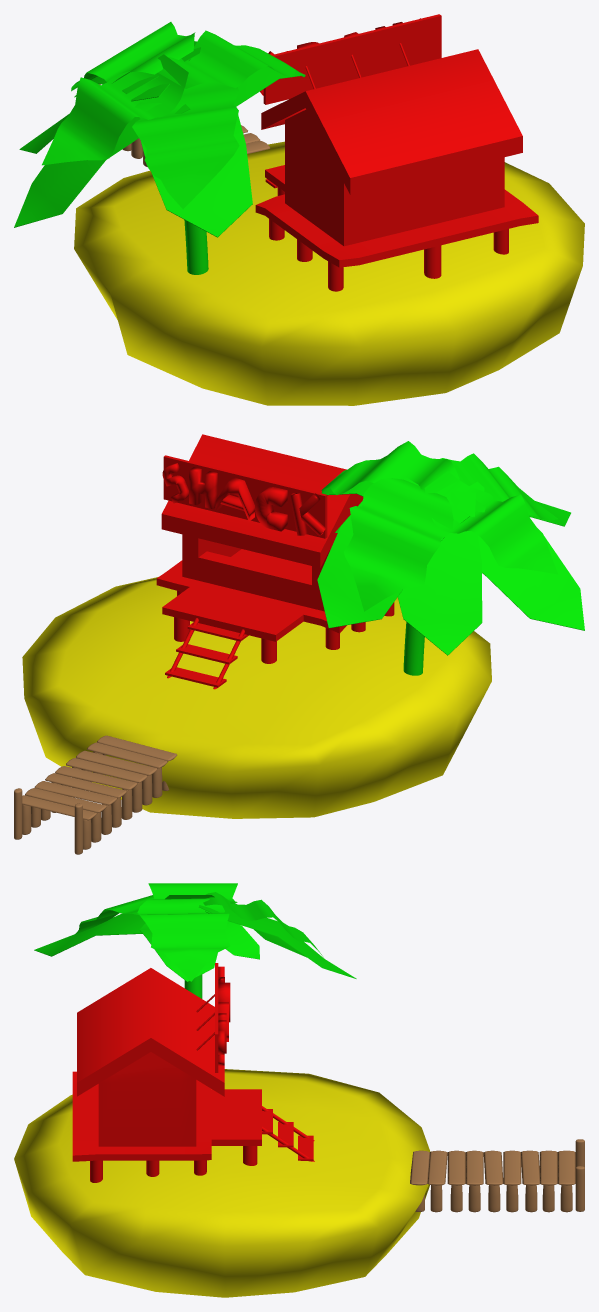
Rendered from PotatoPierFBX.fbx.
3 renders of one model, top to bottom at view 1: azimuth 30°, elevation 25°; view 2: azimuth 150°, elevation 25°; view 3: azimuth 270°, elevation 25°, orthographic. The views are drawn at different scales.
Parts seen in each view (by area): view 1: Island, Shack, Palm_Tree, Dock; view 2: Island, Palm_Tree, Shack, Dock; view 3: Island, Shack, Palm_Tree, Dock.
Part boxes in pixels (box(x1,y1,x2,y2)): Island: box(74, 141, 584, 405); Shack: box(255, 14, 538, 291); Palm_Tree: box(14, 22, 305, 274); Dock: box(99, 84, 270, 167); Island: box(22, 577, 491, 818); Palm_Tree: box(317, 441, 584, 675); Shack: box(156, 434, 394, 689); Dock: box(14, 735, 177, 854); Island: box(14, 1069, 430, 1297); Shack: box(72, 963, 314, 1182); Palm_Tree: box(34, 883, 356, 998); Dock: box(410, 1139, 584, 1212).
Bounding box in the file's own units: 2688 × 1646 × 2876.
